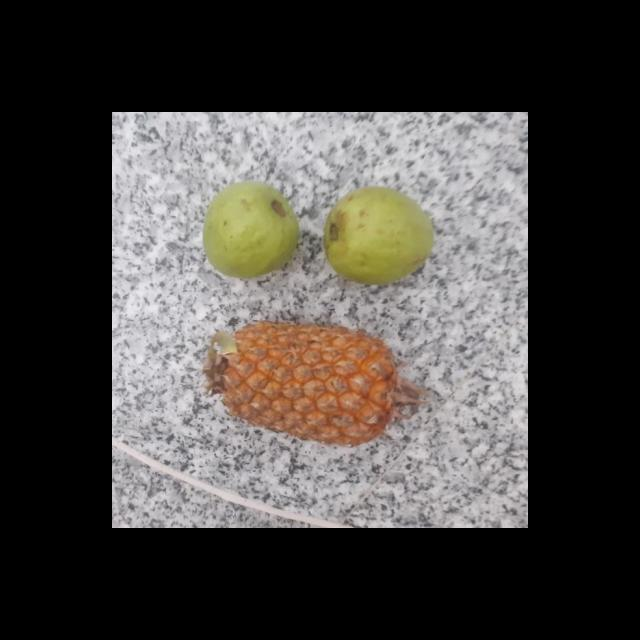guava: (320, 188, 432, 281), (198, 182, 302, 278)
pineapple: (194, 320, 427, 448)
